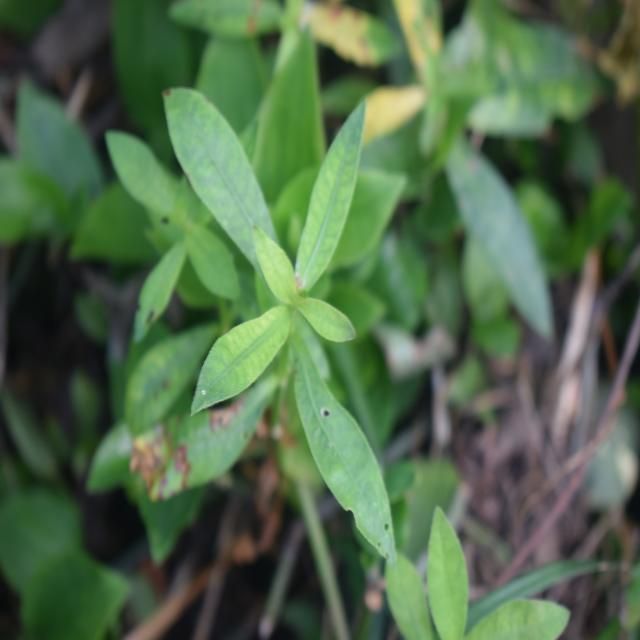Alligatorweed: (159, 49, 422, 549)
